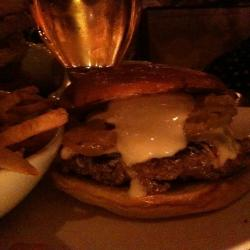burger: (42, 52, 250, 228)
fries: (1, 85, 55, 175)
